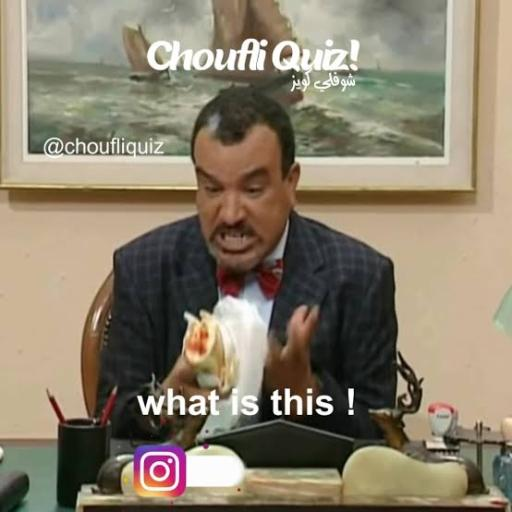slimane: (191, 88, 299, 274)
